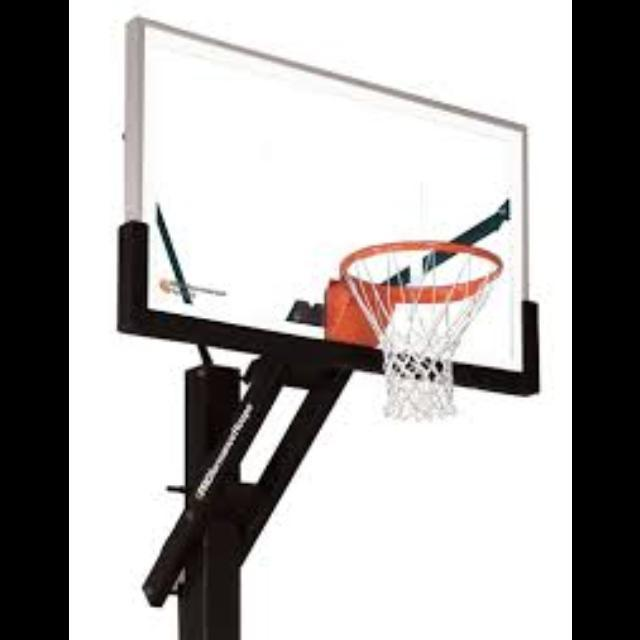rim: (342, 242, 502, 416)
